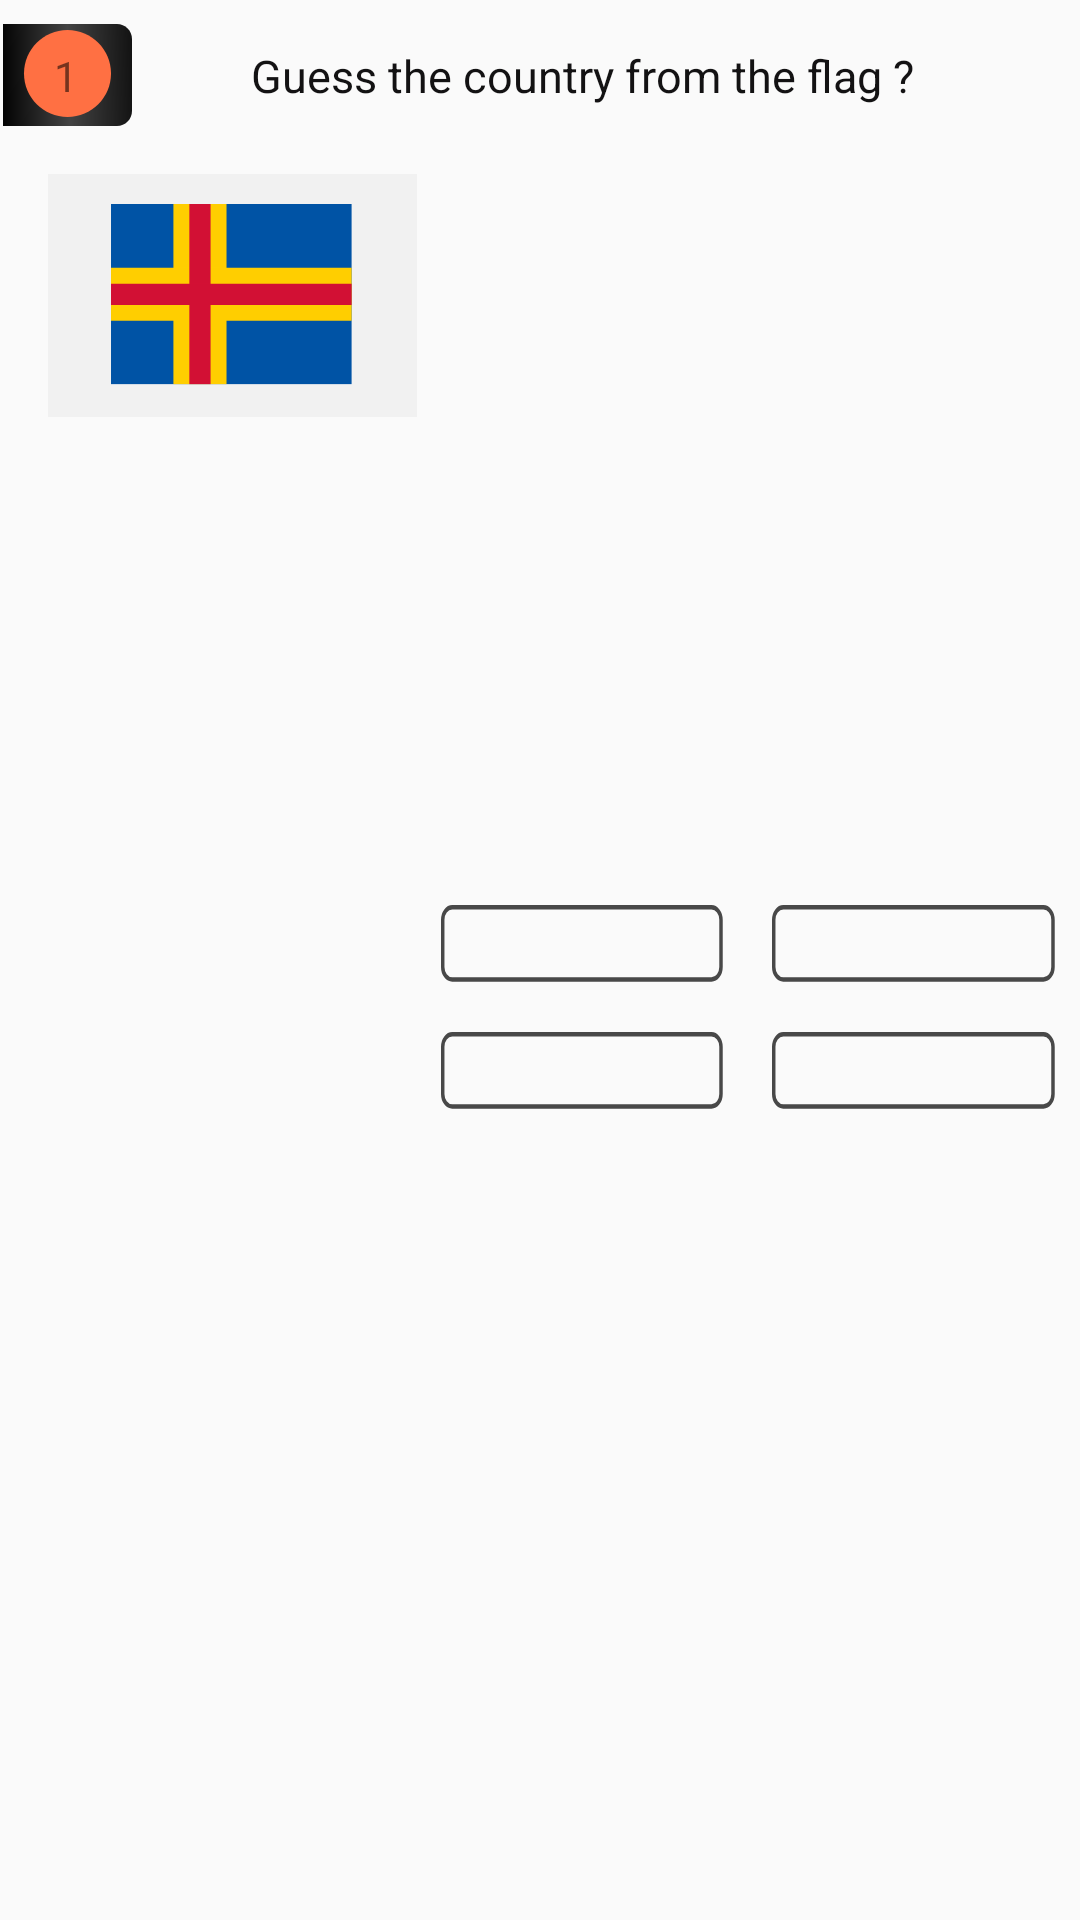

Where icons sit on this 1080 × 1920 app screen, as BBox(x1, y1, x2, y2):
aland islands ax: BBox(111, 204, 352, 385)
